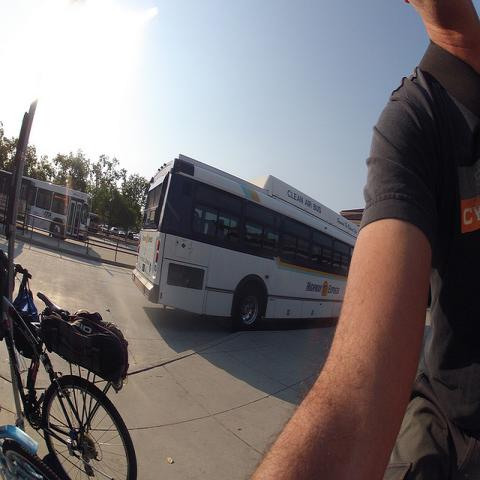bus: (134, 156, 362, 325), (1, 169, 94, 242)
car: (112, 228, 126, 238), (133, 233, 139, 241), (127, 233, 133, 241), (97, 224, 103, 229)
